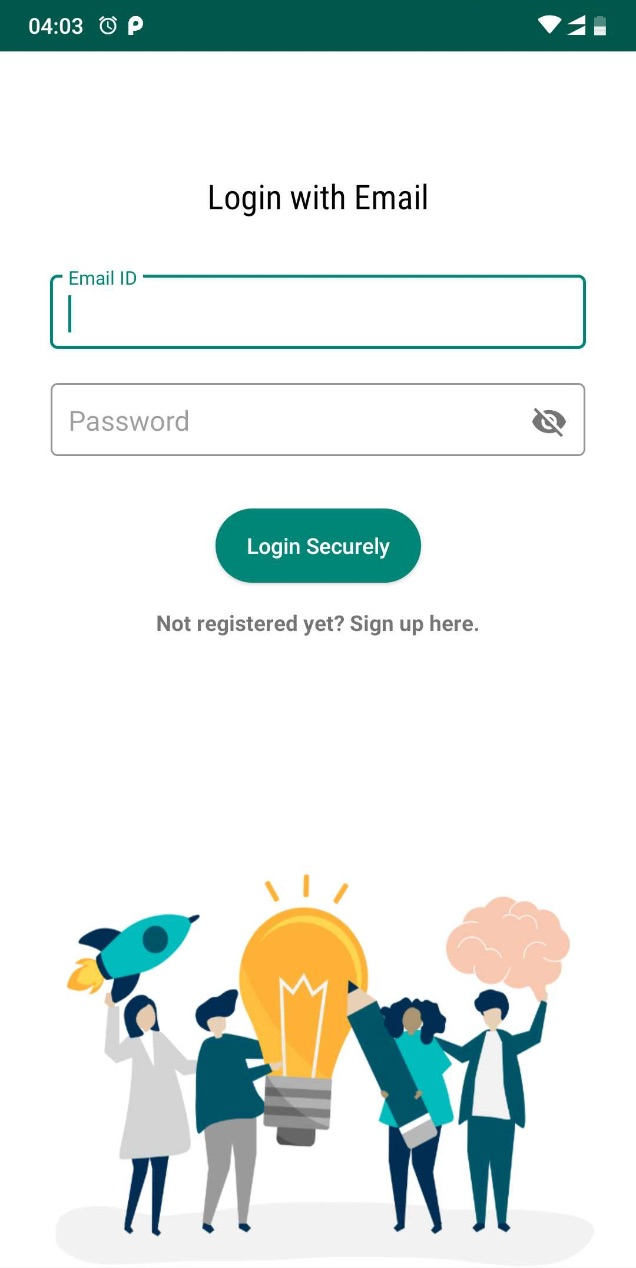EditText: (50, 271, 586, 350), (51, 383, 586, 457)
Icon: (531, 408, 566, 438)
Image: (56, 873, 594, 1266)
Text: (210, 183, 428, 218), (158, 615, 345, 637), (350, 615, 479, 637), (71, 411, 189, 433), (70, 270, 137, 286)
TextButton: (216, 508, 422, 584)
UpperTaskBar: (1, 1, 636, 53)
